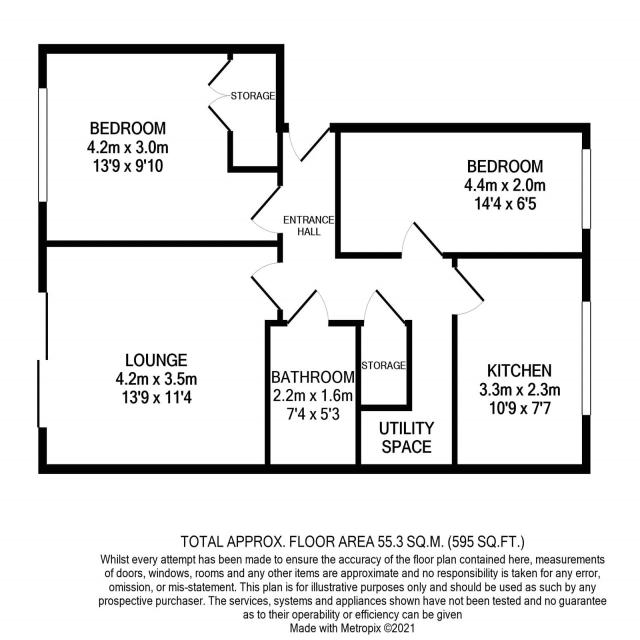DOOR: (286, 122, 332, 165), (399, 218, 445, 259), (285, 285, 331, 326), (247, 183, 283, 235), (451, 266, 487, 317), (249, 260, 283, 312)
ROOM: (37, 240, 283, 475), (37, 43, 285, 248), (335, 122, 591, 259), (451, 252, 591, 474)
WINDOW: (37, 86, 49, 204), (580, 300, 592, 417), (580, 147, 592, 231)
